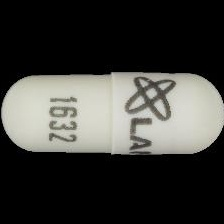42291-841: (0, 0, 224, 224)
